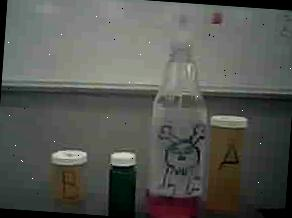Bottle A: (197, 101, 255, 218)
Bottle B: (44, 142, 96, 212)
Bottle C: (102, 144, 142, 218)
hazard: (139, 3, 222, 218)
